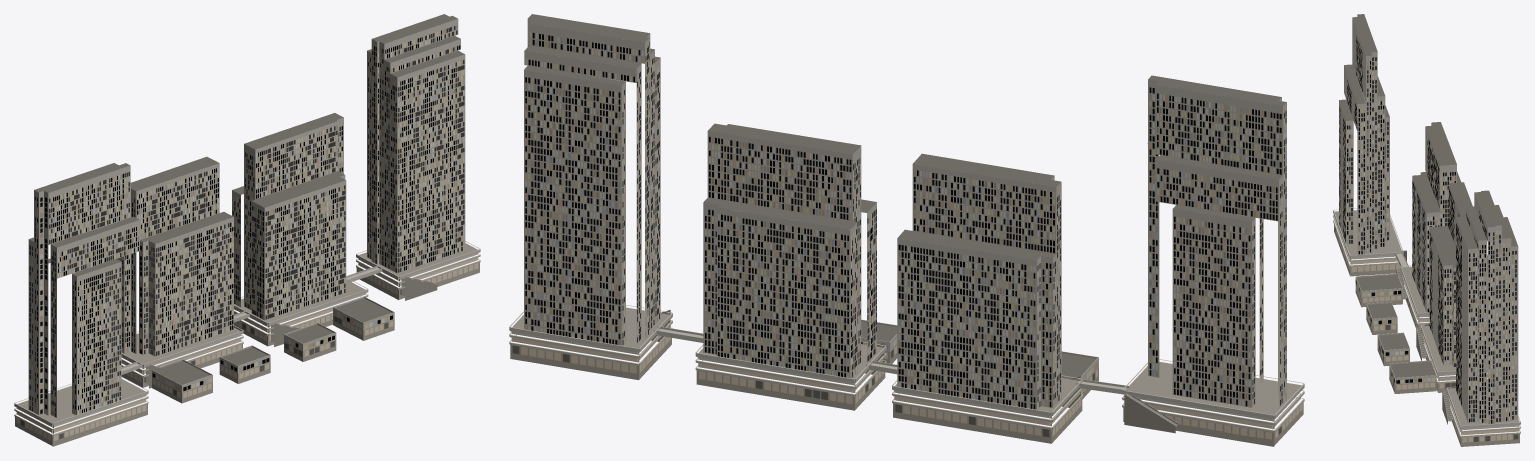
File: embCenter_lod1.glb
3 views of the same model, side by side, from view 1: azimuth 30°, elevation 25°; view 2: azimuth 150°, elevation 25°; view 3: azimuth 270°, elevation 25° (orthographic). The views are drawn at different scales.
Parts seen in each view (by area): view 1: L1_concrete, L1_win, L1_roof, L1_shop, L1_paving; view 2: L1_concrete, L1_win, L1_roof, L1_shop, L1_paving; view 3: L1_concrete, L1_win, L1_roof, L1_shop, L1_paving.
Part boxes in pixels (x1,y1,x2,y2): L1_concrete: (14,19,480,446); L1_win: (29,25,464,416); L1_roof: (29,14,464,384); L1_shop: (16,253,478,440); L1_paving: (17,243,477,422); L1_concrete: (509,19,1304,446); L1_win: (525,32,1286,409); L1_roof: (524,14,1286,379); L1_shop: (511,323,1302,439); L1_paving: (512,307,1301,414); L1_concrete: (1333,15,1520,446); L1_win: (1339,35,1516,423); L1_roof: (1339,14,1517,377); L1_shop: (1334,226,1519,442); L1_paving: (1334,210,1519,425).
Size of the model in its own units: 382 by 176 by 138.
